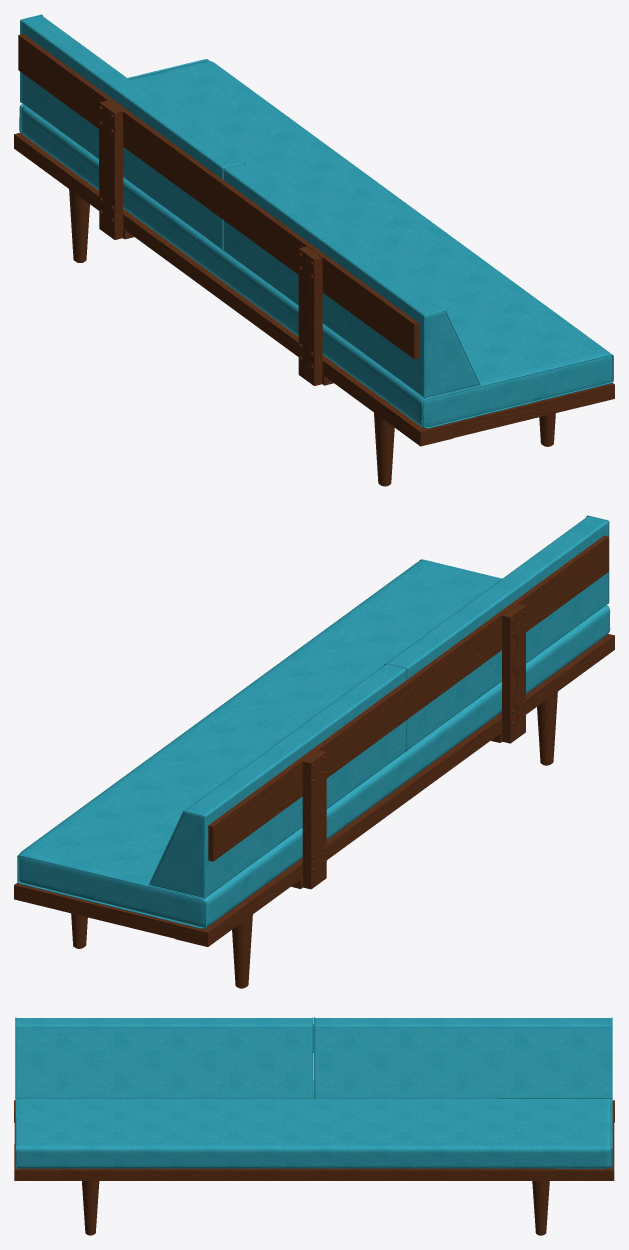
Rendered from out_opt.glb.
The picture shows the model from 3 angles, top to bottom: view 1: azimuth 30°, elevation 25°; view 2: azimuth 150°, elevation 25°; view 3: azimuth 270°, elevation 25°; orthographic projection. The views are drawn at different scales.
Visible parts, largest first — view 1: Cylinder.005, Cylinder.068; view 2: Cylinder.005, Cylinder.068; view 3: Cylinder.005, Cylinder.068.
Part boxes in pixels (x1,y1,x2,y2): Cylinder.005: [19, 14, 613, 428]; Cylinder.068: [14, 34, 614, 486]; Cylinder.005: [17, 515, 610, 928]; Cylinder.068: [14, 535, 614, 988]; Cylinder.005: [15, 1017, 612, 1168]; Cylinder.068: [14, 1024, 614, 1235].
Size of the model in its own units: 0.803 by 0.7787 by 2.75.
2 materials, 2 textured.
